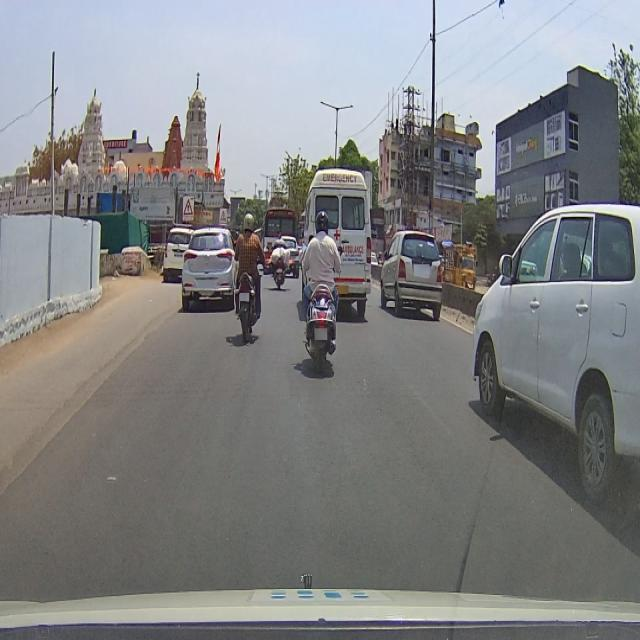car ahead at: (451, 202, 640, 494), (180, 226, 235, 316)
motorcycle ahead at: (299, 279, 341, 364), (236, 269, 264, 346)
